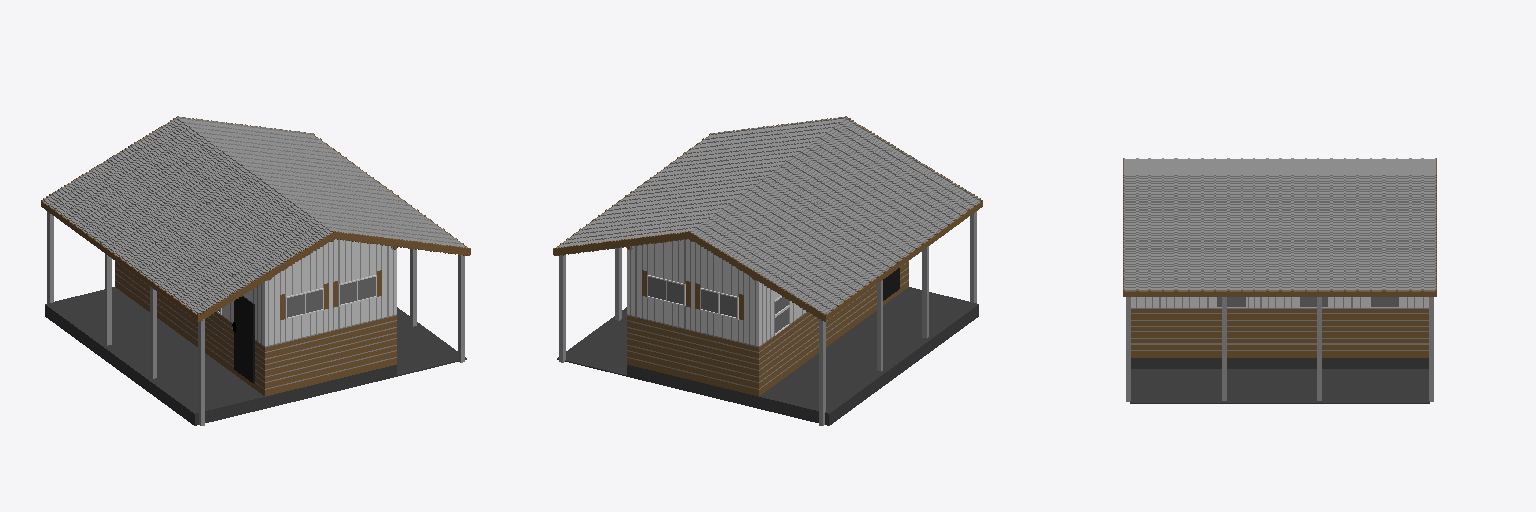
The picture shows the model from 3 angles: view 1: azimuth 30°, elevation 25°; view 2: azimuth 150°, elevation 25°; view 3: azimuth 270°, elevation 25°; orthographic projection.
Visible parts, largest first — view 1: object 1; view 2: object 1; view 3: object 1.
Part boxes in pixels (left/top/right/bottom): object 1: left=41, top=116, right=470, bottom=425; object 1: left=553, top=116, right=982, bottom=425; object 1: left=1123, top=158, right=1436, bottom=403.
Bounding box in the file's own units: 25.6 × 14.7 × 25.6.
1 materials, 1 textured.